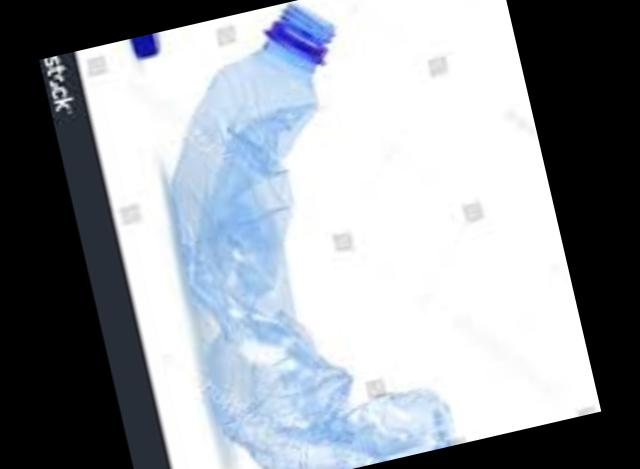plastic: (173, 0, 455, 469)
